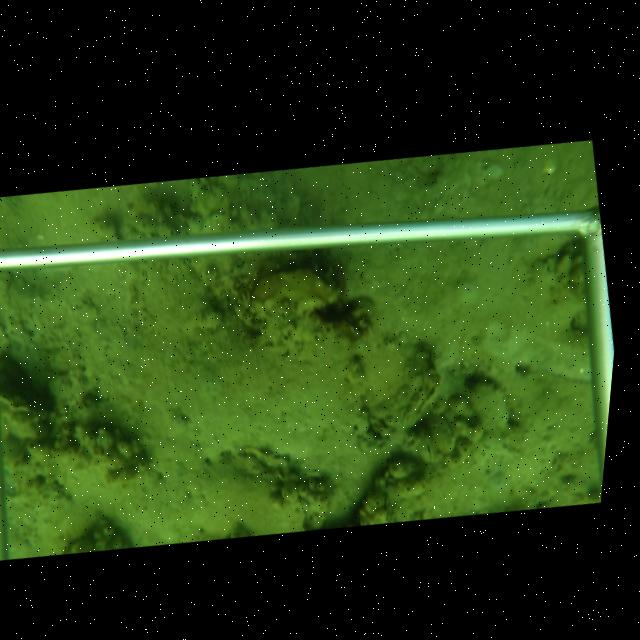Oyster-Closed: (415, 436, 435, 467)
Oyster-Indeterminate: (355, 337, 441, 437), (245, 266, 344, 327), (468, 380, 509, 433)
